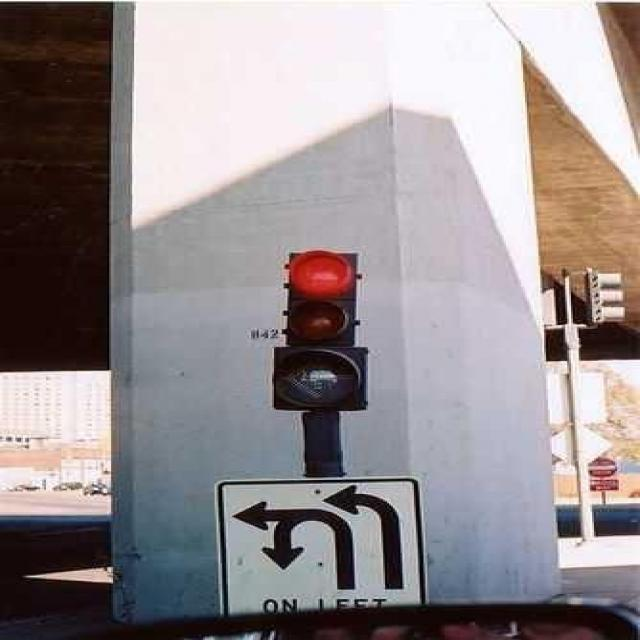red_light: (277, 244, 365, 408), (277, 347, 365, 407), (276, 244, 362, 296), (284, 298, 358, 348)
